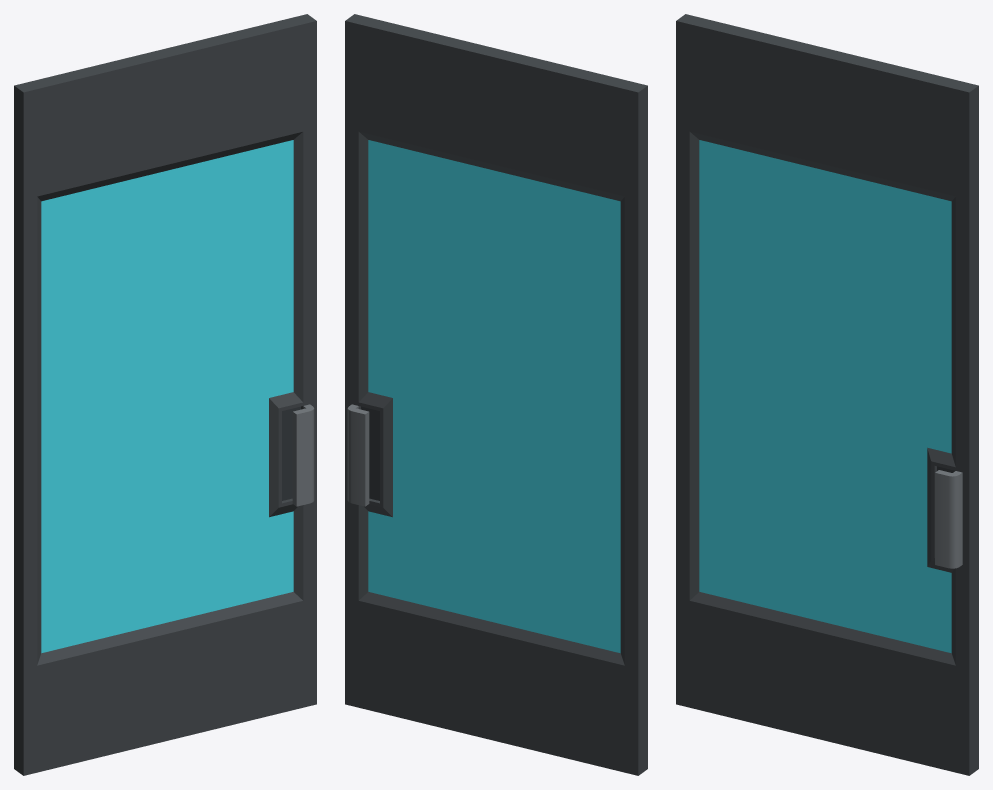
Rendered from SM_Buildings_Commercial_16_Door_L.fbx.
The picture shows the model from 3 angles, left to right: view 1: azimuth 30°, elevation 25°; view 2: azimuth 150°, elevation 25°; view 3: azimuth 330°, elevation 25°; orthographic projection.
Visible parts, largest first — view 1: SM_Buildings_Commercial_16_Door_L; view 2: SM_Buildings_Commercial_16_Door_L; view 3: SM_Buildings_Commercial_16_Door_L.
Part boxes in pixels (bbox=[...]): SM_Buildings_Commercial_16_Door_L: bbox=[14, 14, 316, 775]; SM_Buildings_Commercial_16_Door_L: bbox=[345, 14, 647, 775]; SM_Buildings_Commercial_16_Door_L: bbox=[676, 14, 978, 775].
Size of the model in its own units: 1.08 by 2.39 by 0.15.
